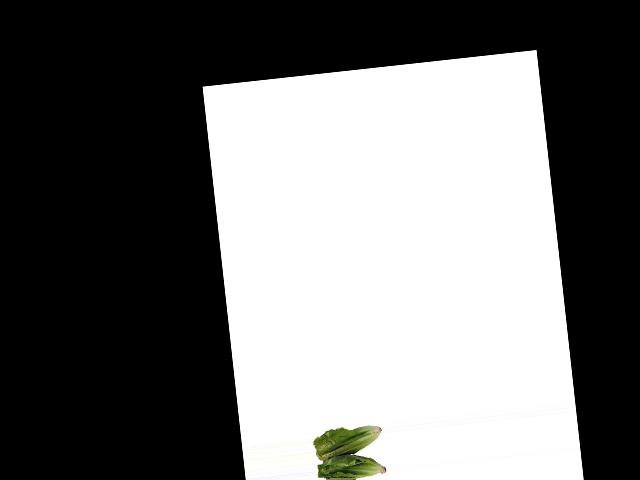lettuce: (311, 419, 387, 480)
